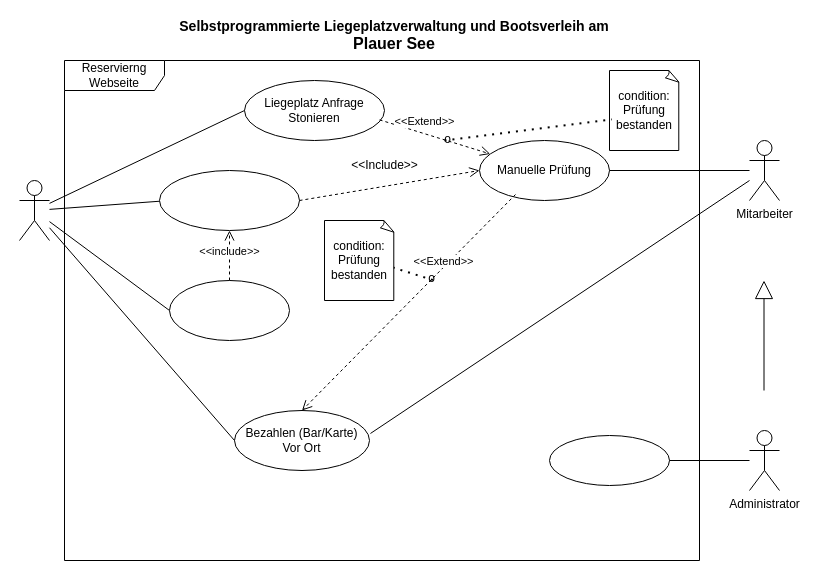
This 817x578 diagram has some shape labels left out. The centre of each missing label's shape, as x and y in pixels:
Bootleih anfragen: [229,310]
Kunde: [34,210]
Liegeplatz Anfragen Ü Webpage: [229,200]
Verwaltung von Mitarbeiter: [609,460]
